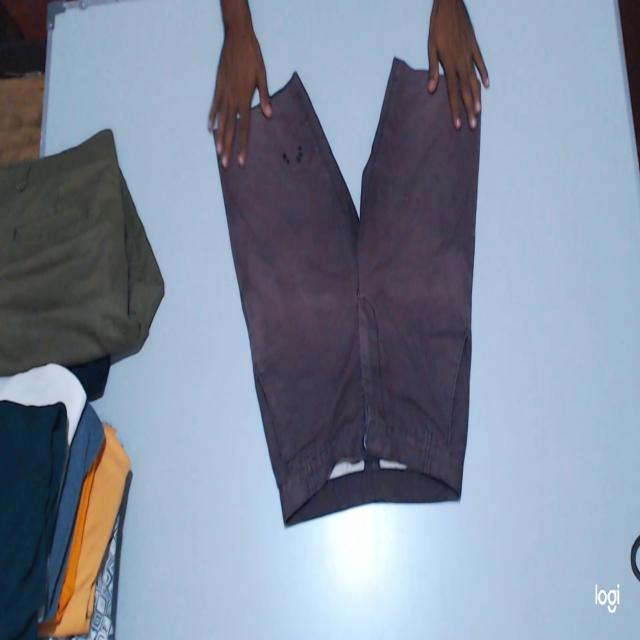new-garment: (220, 60, 479, 524)
